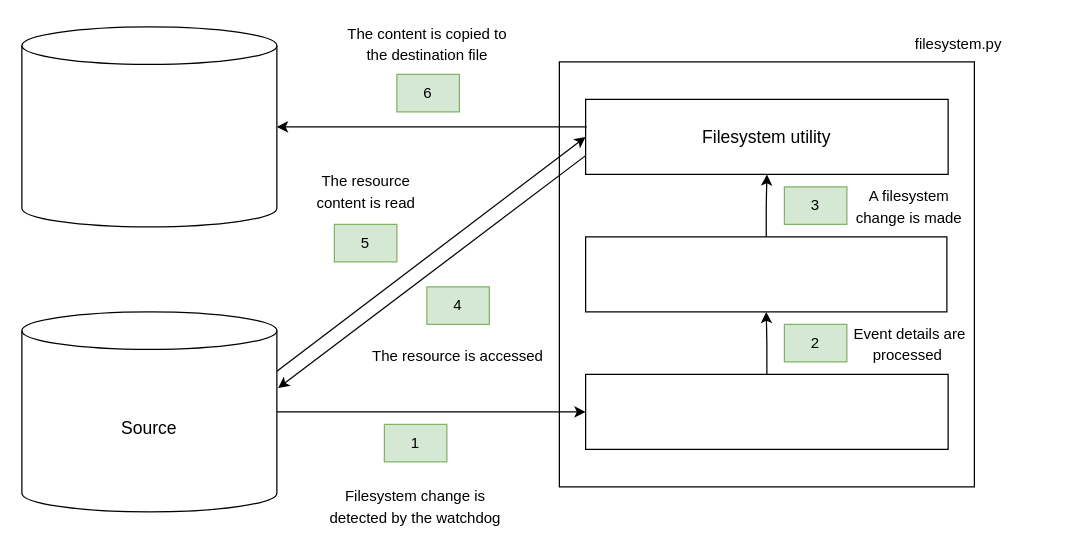
This 1068x548 diagram has some shape labels left out. Here are the shapes that lost their labels. From the top down, the box of each, then its label:
(21, 26, 277, 227): Destination
(584, 236, 947, 312): Event Handler
(584, 373, 948, 449): Watchdog
